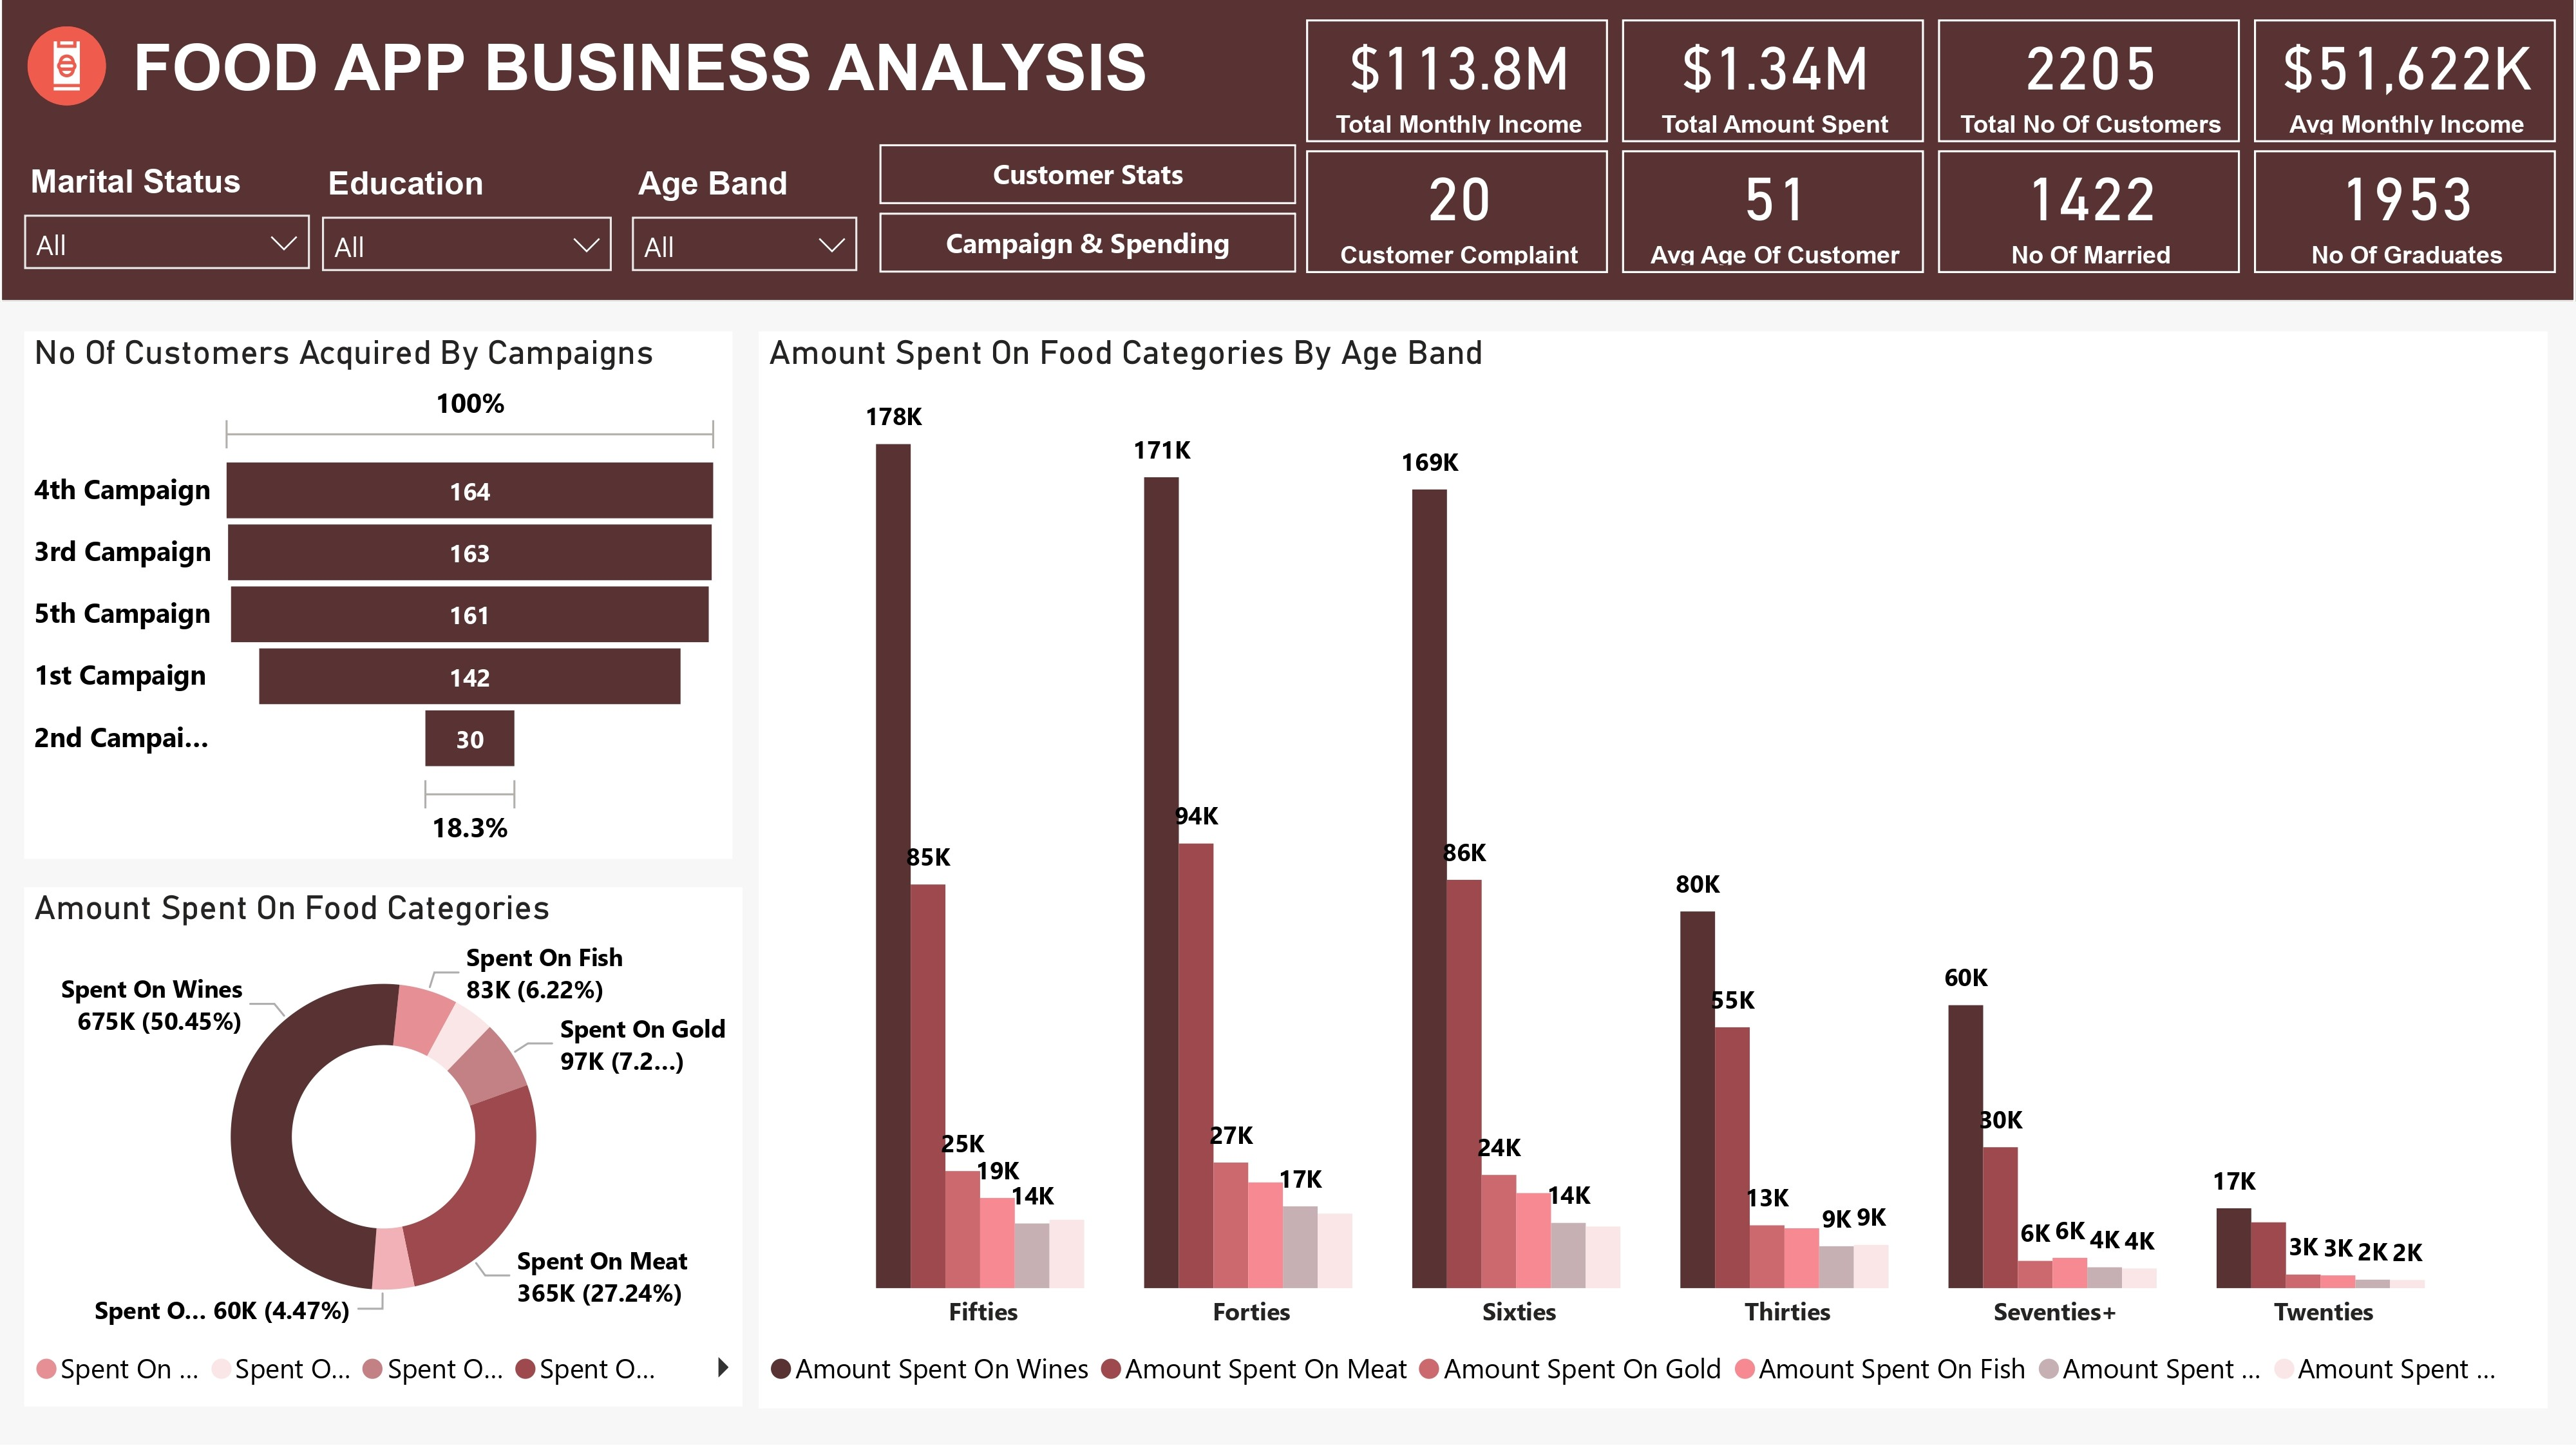

This screenshot's page, from the dashboard's own definition file:
{"tool":"powerbi","page":{"name":"REPORT 2","canvas":[1280,720],"ordinal":1},"visuals":[{"type":"shape","box":[0,0,1280,142],"z":0},{"type":"textbox","box":[20.1,16.8,528.4,53.7],"z":1000},{"type":"card","fields":{"Values":["DAX.No Of Graduates"]},"box":[1105.5,77.2,164.4,60.4],"z":2000},{"type":"card","fields":{"Values":["DAX.No Of Customer Complaint"]},"box":[593.9,77.2,164.4,60.4],"z":3000},{"type":"card","fields":{"Values":["DAX.No Of Married"]},"box":[934.4,77.2,164.4,60.4],"z":4000},{"type":"card","fields":{"Values":["DAX.Avg Customer Age"]},"box":[765,77.2,164.4,60.4],"z":5000},{"type":"clusteredColumnChart","title":"Age Band By Amount Spent On Food Categories","fields":{"Category":["FoodAppBusiness.AgeBand"],"Y":["DAX.Amount Spent On Wines","DAX.Amount Spent On Meat","DAX.Amount Spent On Gold","DAX.Amount Spent On Fish","DAX.Amount Spent On Sweet","DAX.Amount Spent On Fruits"]},"box":[377.5,154.3,889.1,546.9],"z":6000},{"type":"card","fields":{"Values":["DAX.Formatted Total Amount"]},"box":[765,11.7,164.4,60.4],"z":10000},{"type":"card","fields":{"Values":["DAX.Formated Avg Monthly Income"]},"box":[1105.5,11.7,164.4,60.4],"z":11000},{"type":"card","fields":{"Values":["DAX.Total No Of Customers"]},"box":[934.4,11.7,164.4,60.4],"z":12000},{"type":"card","fields":{"Values":["DAX.Formatted Total Amonthly Income"]},"box":[593.9,11.7,164.4,60.4],"z":13000},{"type":"funnel","title":"No Of Customers Acquired By  Campaigns","fields":{"Y":["DAX.4th Campaign","DAX.3rd Campaign","DAX.5th Campaign","DAX.1st Campaign","DAX.2nd Campaign"]},"box":[11.7,154.3,352.3,265.1],"z":14000},{"type":"slicer","fields":{"Values":["FoodAppBusiness.AgeBand"]},"box":[457.8,76.5,131.8,59.5],"z":15000,"group":"g1"},{"type":"donutChart","title":"Amount Spent On Food Categories","fields":{"Y":["DAX.Amount Spent On Fish","DAX.Amount Spent On Fruits","DAX.Amount Spent On Gold","DAX.Amount Spent On Meat","DAX.Amount Spent On Sweet","DAX.Amount Spent On Wines"]},"box":[11.7,431.1,357.3,270.1],"z":15000},{"type":"group","id":"g1","title":"Group 1","box":[11.3,75.1,578.3,60.9],"z":15001},{"type":"slicer","fields":{"Values":["FoodAppBusiness.Graduate_Status"]},"box":[304.7,76.5,163,59.5],"z":16000,"group":"g1"},{"type":"slicer","fields":{"Values":["FoodAppBusiness.Marital_Status"]},"box":[161.5,75.1,151.7,58.1],"z":17000,"group":"g1"},{"type":"actionButton","box":[11.3,102,140.3,31.2],"z":19000,"group":"g1"}]}

Visuals, with their boxes in screenshot pixels (x1, y1, x2, y2), scaled from the page's 1280x720 canvas onto the 2576x1455 screenshot:
shape: [left=0, top=0, right=2575, bottom=287]
textbox: [left=41, top=34, right=1104, bottom=142]
card - DAX.No Of Graduates: [left=2225, top=156, right=2555, bottom=278]
card - DAX.No Of Customer Complaint: [left=1195, top=156, right=1526, bottom=278]
card - DAX.No Of Married: [left=1880, top=156, right=2211, bottom=278]
card - DAX.Avg Customer Age: [left=1540, top=156, right=1870, bottom=278]
"Age Band By Amount Spent On Food Categories" clusteredColumnChart: [left=760, top=312, right=2549, bottom=1417]
card - DAX.Formatted Total Amount: [left=1540, top=24, right=1870, bottom=146]
card - DAX.Formated Avg Monthly Income: [left=2225, top=24, right=2555, bottom=146]
card - DAX.Total No Of Customers: [left=1880, top=24, right=2211, bottom=146]
card - DAX.Formatted Total Amonthly Income: [left=1195, top=24, right=1526, bottom=146]
"No Of Customers Acquired By  Campaigns" funnel: [left=24, top=312, right=733, bottom=848]
slicer - FoodAppBusiness.AgeBand: [left=922, top=155, right=1186, bottom=275]
"Amount Spent On Food Categories" donutChart: [left=24, top=871, right=743, bottom=1417]
"Group 1" group: [left=23, top=152, right=1186, bottom=275]
slicer - FoodAppBusiness.Graduate_Status: [left=613, top=155, right=942, bottom=275]
slicer - FoodAppBusiness.Marital_Status: [left=325, top=152, right=630, bottom=269]
actionButton: [left=23, top=206, right=305, bottom=269]
